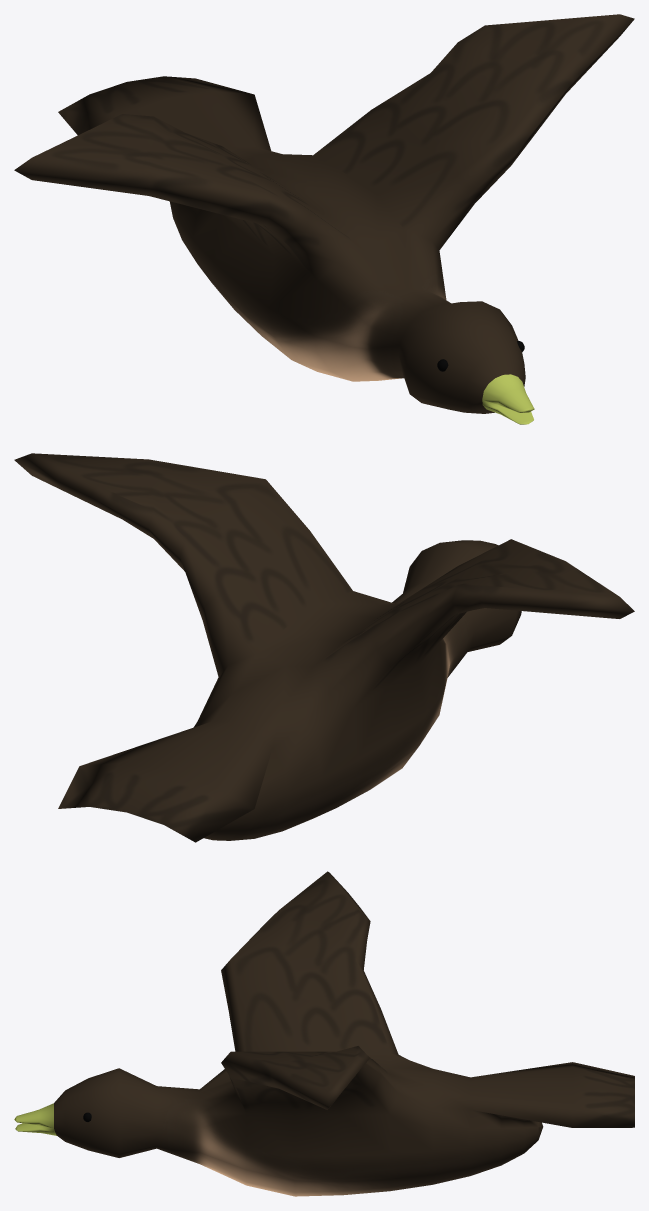
File: bard.fbx
3 views of the same model, one above another, from view 1: azimuth 30°, elevation 25°; view 2: azimuth 150°, elevation 25°; view 3: azimuth 270°, elevation 25° (orthographic). The views are drawn at different scales.
Visible parts, largest first — view 1: pSphere1; view 2: pSphere1; view 3: pSphere1.
Boxes of the visible parts, x1=… form: pSphere1: x1=14, y1=14, x2=634, y2=424; pSphere1: x1=14, y1=453, x2=634, y2=842; pSphere1: x1=14, y1=871, x2=634, y2=1196.
Bounding box in the file's own units: 223 × 92.32 × 250.
